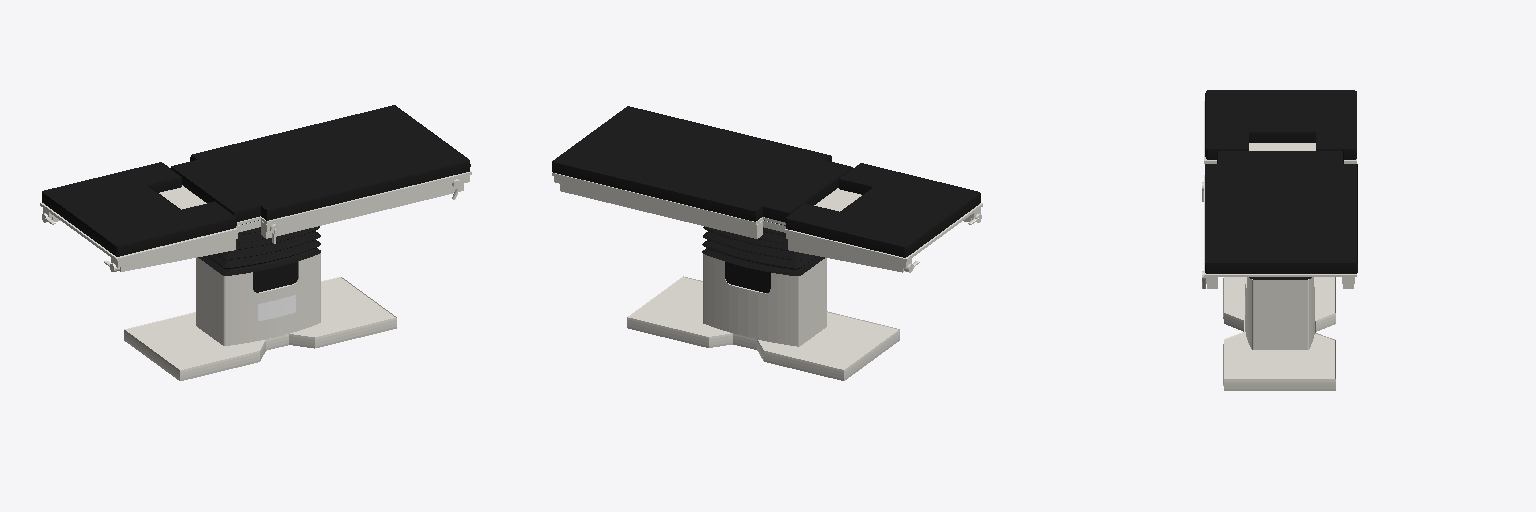
Rendered from bed.obj.
3 views of the same model, side by side, from view 1: azimuth 30°, elevation 25°; view 2: azimuth 150°, elevation 25°; view 3: azimuth 270°, elevation 25° (orthographic).
Parts seen in each view (by area): view 1: Rectangle01_Mesh.001; view 2: Rectangle01_Mesh.001; view 3: Rectangle01_Mesh.001.
Boxes of the visible parts, box(x1,y1,x2,y2) form: Rectangle01_Mesh.001: box(40, 105, 471, 380); Rectangle01_Mesh.001: box(552, 106, 982, 380); Rectangle01_Mesh.001: box(1202, 90, 1357, 390).
Size of the model in its own units: 10.25 by 4.38 by 3.89.